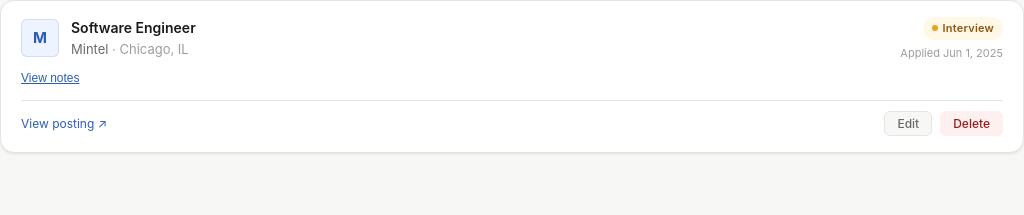
Scenario: ApplicationCard › shows notes when View notes is clicked
Click the button "View notes" at (50, 78), box [21,71,80,85]
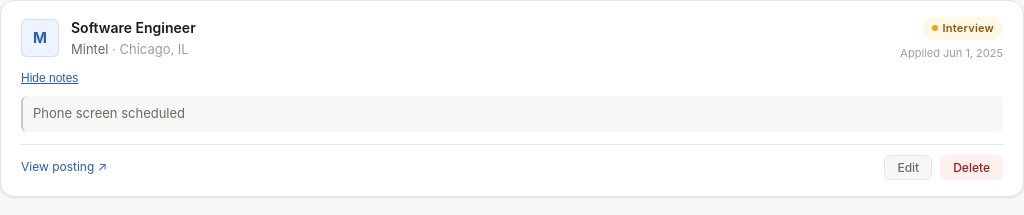
Now the text "Phone screen scheduled" is shown, box [21,96,1003,132]
